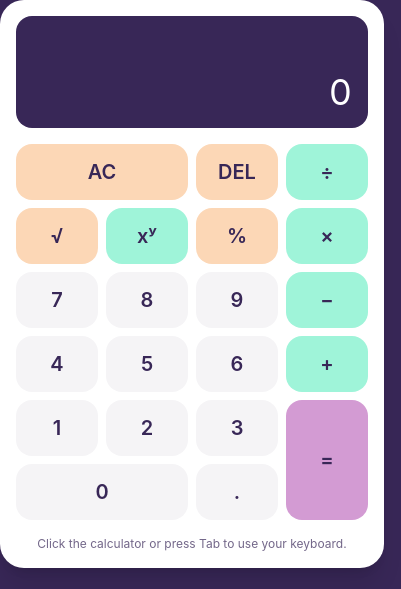
it: Calculator › sends a clicked calculation to the API and shows the result
Click the button "5": {"x": 147, "y": 364} [106,336,188,392]
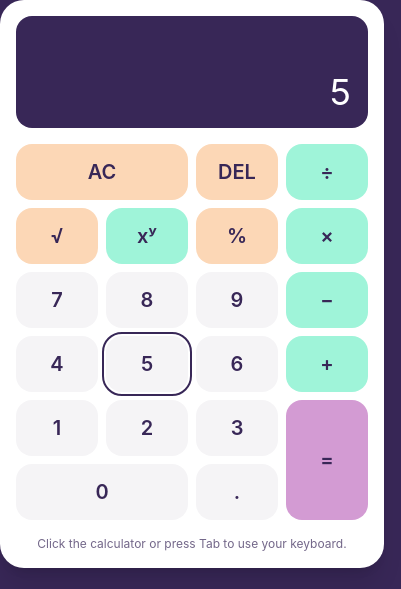
Click the button named "Add": {"x": 327, "y": 364} [286,336,368,392]
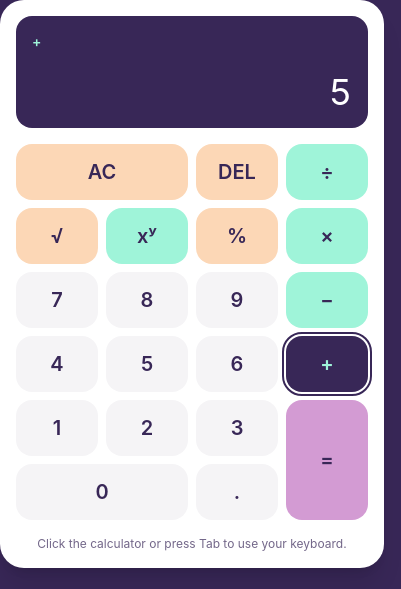
Click the button "3": {"x": 237, "y": 428} [196,400,278,456]
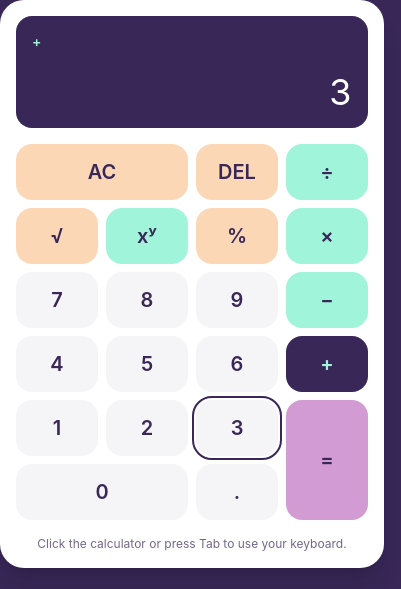
Click the button named "Equals": {"x": 327, "y": 460} [286,400,368,520]
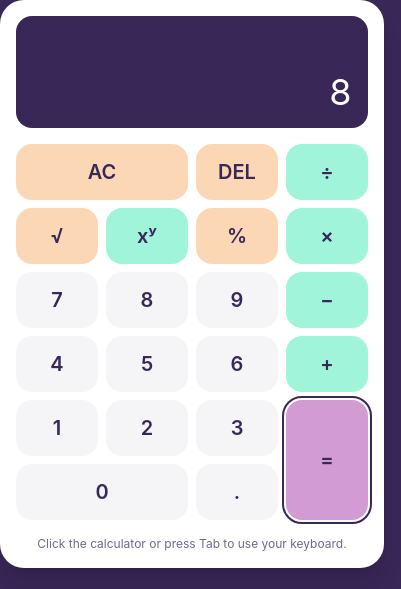
Expected: the text "8" is shown, [329,70,352,114]
